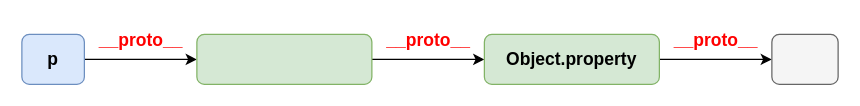
Image size: 860x106. Some labels were removed from this diagram. The centre of each missing label's shape, as x and y in pixels:
null: (x=804, y=58)
Person.property: (x=284, y=58)
